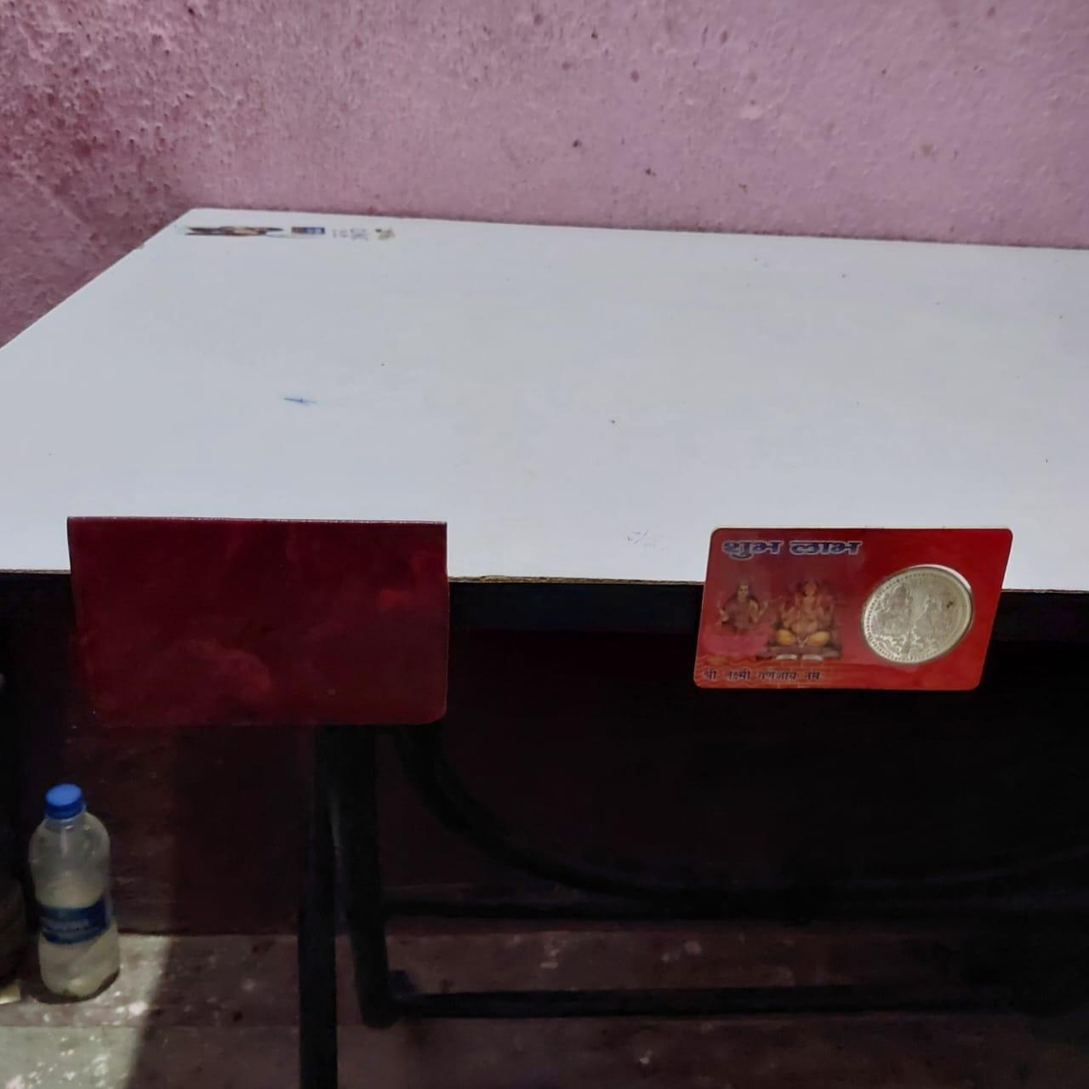blessing_card: (696, 512, 1017, 698)
wallet: (68, 516, 459, 730)
